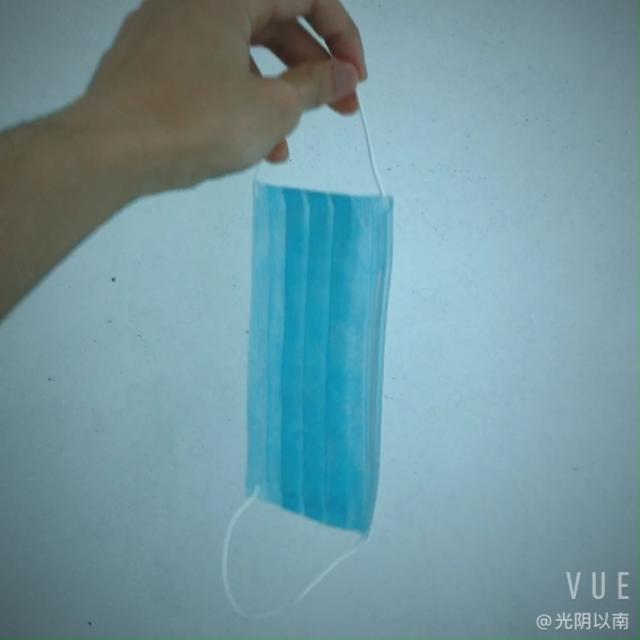face mask: (226, 158, 426, 550)
